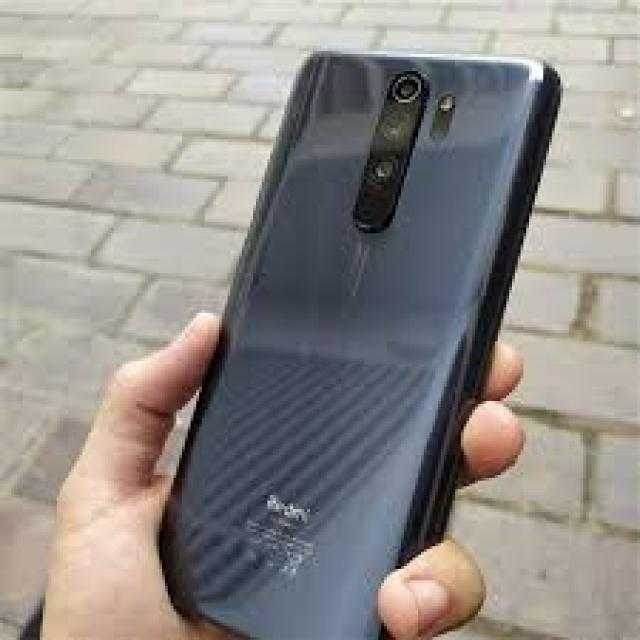Red Mi Note 8 Pro: (159, 51, 563, 640)
